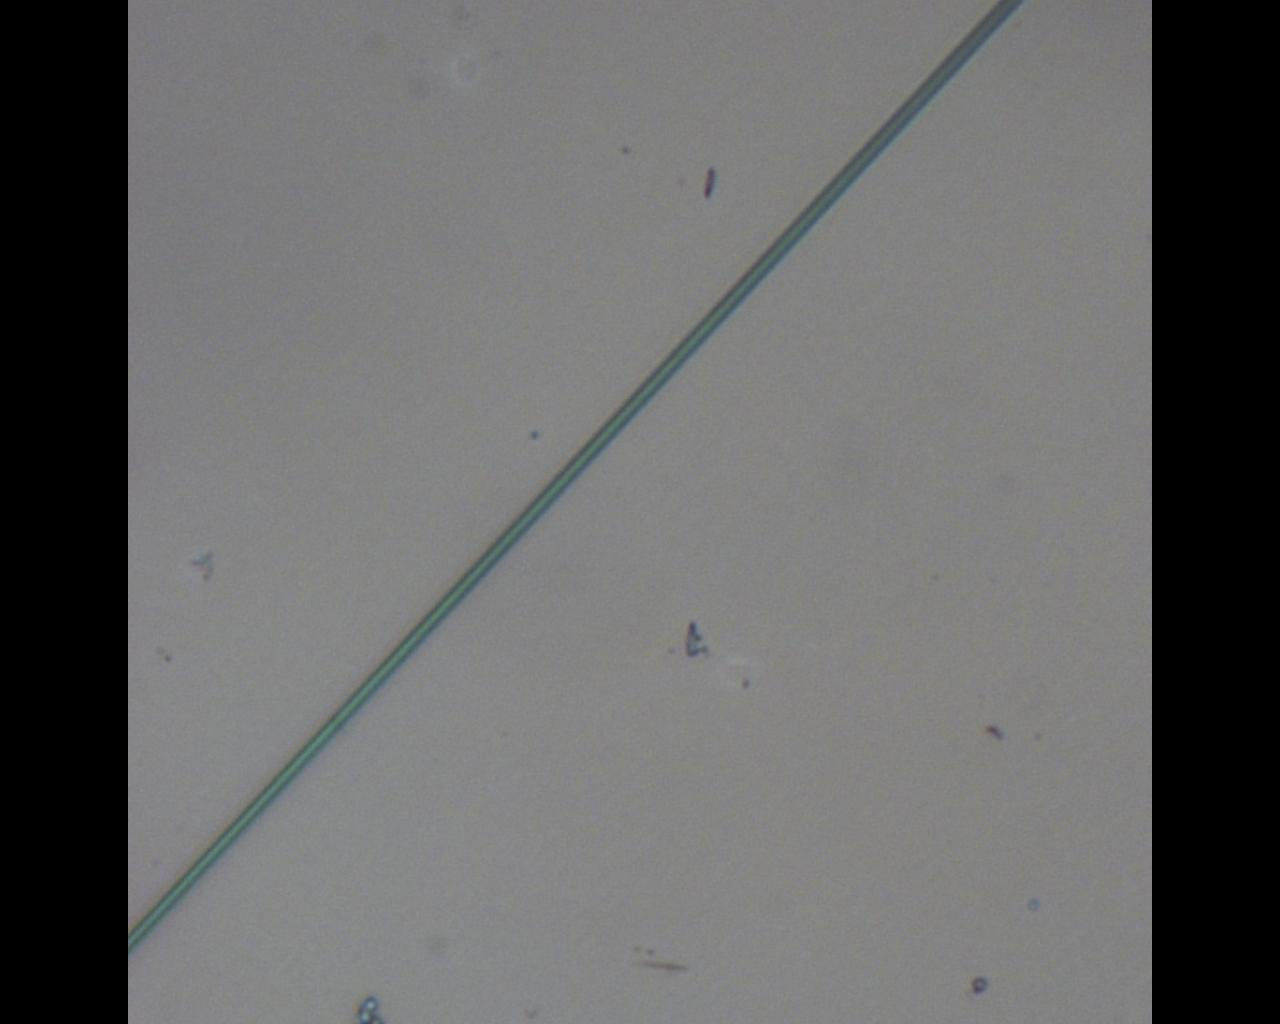fiber: (127, 0, 1023, 959)
